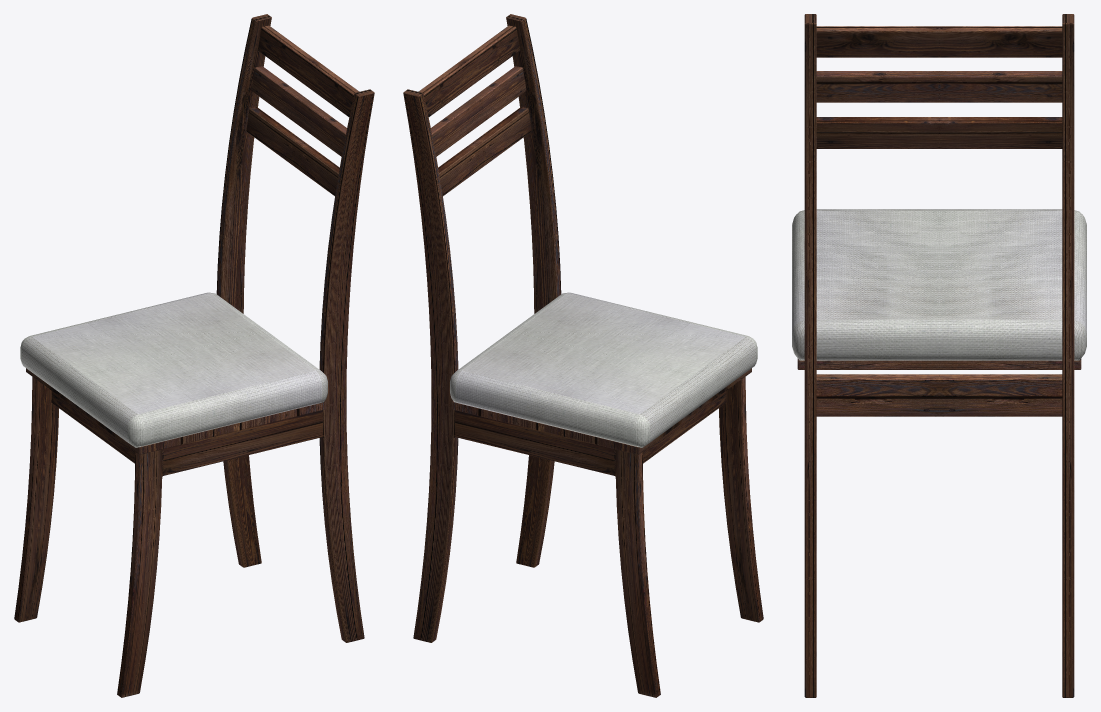
The model's file is Coq_funiture_Chair02.fbx.
3 views of the same model, side by side, from view 1: azimuth 30°, elevation 25°; view 2: azimuth 150°, elevation 25°; view 3: azimuth 270°, elevation 25° (orthographic). The views are drawn at different scales.
Parts seen in each view (by area): view 1: chair, chair_cushion; view 2: chair, chair_cushion; view 3: chair, chair_cushion.
Boxes of the visible parts, x1=… form: chair: x1=14, y1=14, x2=374, y2=697; chair_cushion: x1=20, y1=292, x2=327, y2=447; chair: x1=403, y1=14, x2=763, y2=697; chair_cushion: x1=450, y1=292, x2=757, y2=447; chair: x1=797, y1=14, x2=1081, y2=697; chair_cushion: x1=792, y1=209, x2=1086, y2=360.
Size of the model in its own units: 77.88 by 160 by 62.61.
